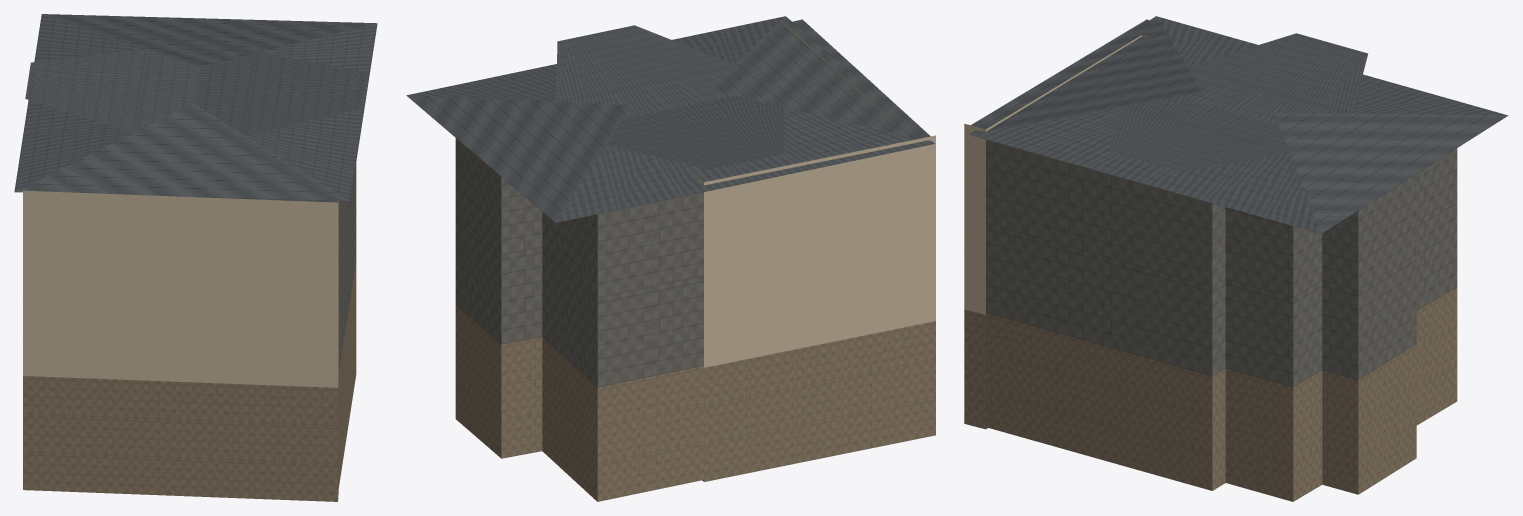
File: bld_c15_25_403.gltf
The picture shows the model from 3 angles, left to right: view 1: azimuth 30°, elevation 25°; view 2: azimuth 150°, elevation 25°; view 3: azimuth 270°, elevation 25°; orthographic projection.
Parts seen in each view (by area): view 1: bld_c15_25_403; view 2: bld_c15_25_403; view 3: bld_c15_25_403.
Part boxes in pixels (x1,y1,x2,y2): bld_c15_25_403: (14,14,377,501); bld_c15_25_403: (406,16,935,501); bld_c15_25_403: (964,16,1508,501).
Bounding box in the file's own units: 20.84 × 14.2 × 21.99.
5 materials, 5 textured.
